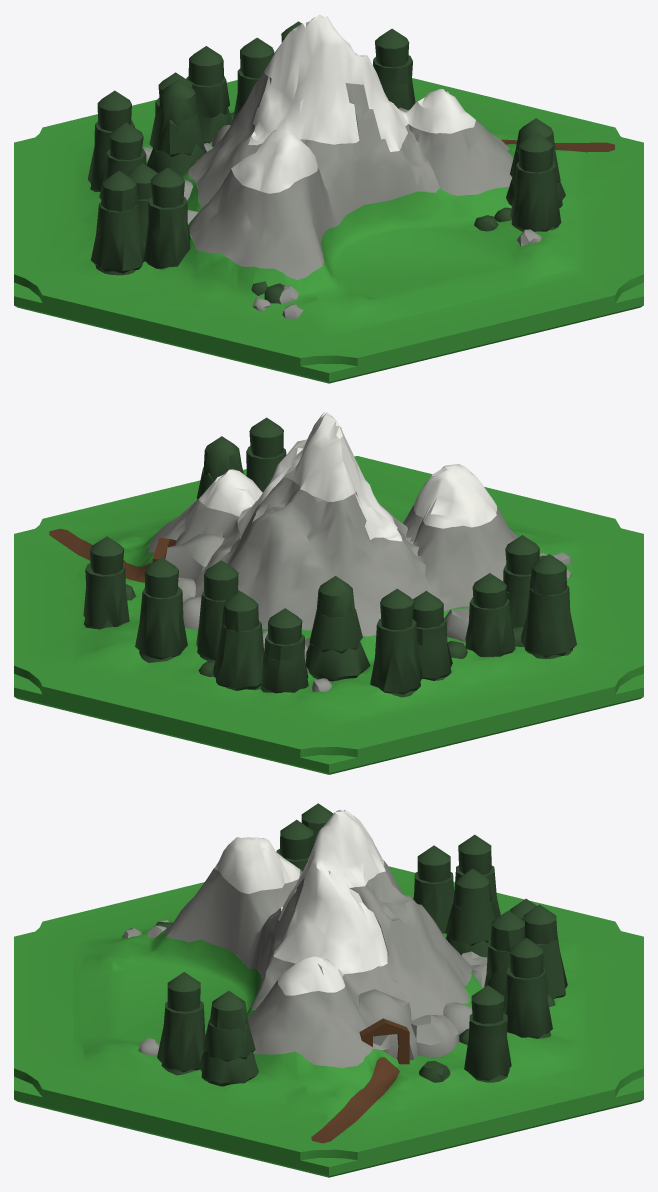
File: gebirge_3.glb
3 renders of one model, top to bottom at view 1: azimuth 30°, elevation 25°; view 2: azimuth 150°, elevation 25°; view 3: azimuth 270°, elevation 25°, orthographic.
Parts seen in each view (by area): view 1: gebirge_3; view 2: gebirge_3; view 3: gebirge_3.
Part boxes in pixels (x1,y1,x2,y2): gebirge_3: [14, 14, 643, 383]; gebirge_3: [14, 412, 643, 774]; gebirge_3: [14, 803, 643, 1177].
Bounding box in the file's own units: 65.24 × 21.06 × 56.5.
